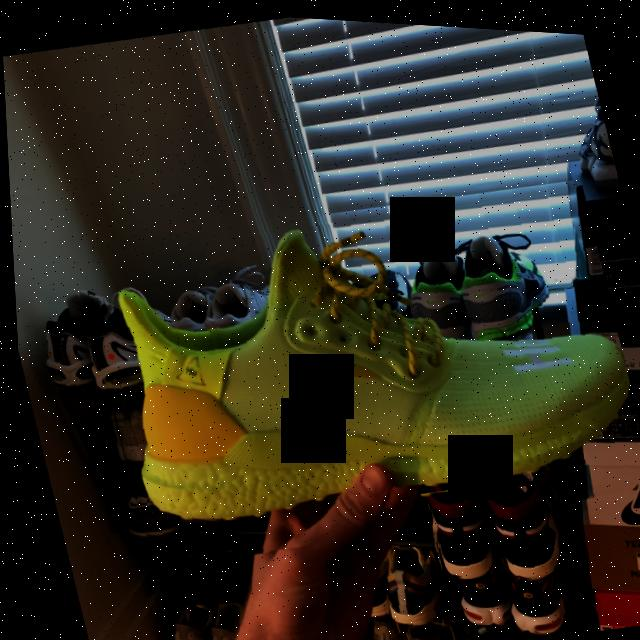shoe: (61, 148, 640, 595), (442, 228, 563, 363), (22, 276, 118, 396), (393, 240, 486, 362), (366, 522, 452, 631), (477, 473, 563, 581), (415, 477, 493, 579), (152, 589, 219, 640)
